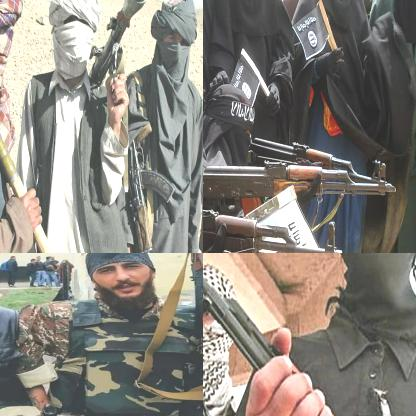rifle: (203, 253, 415, 415), (0, 0, 61, 252), (203, 162, 397, 226), (120, 115, 177, 252), (86, 0, 159, 89), (203, 208, 349, 252), (245, 128, 381, 174)
